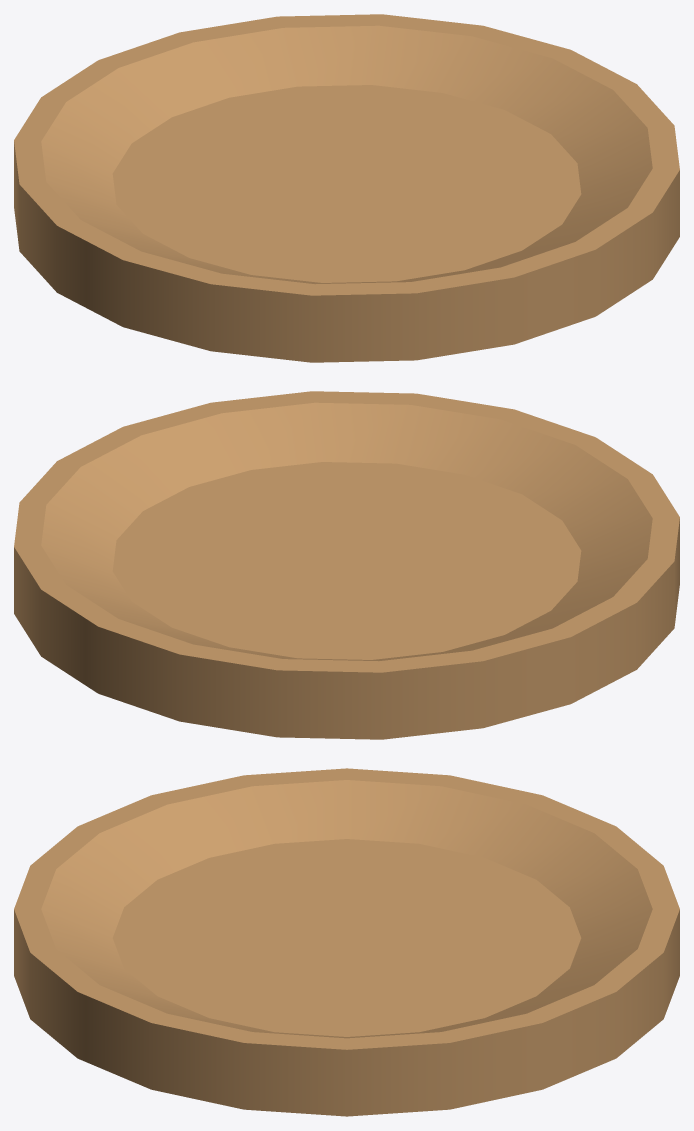
The model's file is Props_plate_01.fbx.
The picture shows the model from 3 angles, top to bottom: view 1: azimuth 30°, elevation 25°; view 2: azimuth 150°, elevation 25°; view 3: azimuth 270°, elevation 25°; orthographic projection.
Parts seen in each view (by area): view 1: plate2; view 2: plate2; view 3: plate2.
Boxes of the visible parts, x1=… form: plate2: x1=14, y1=14, x2=679, y2=362; plate2: x1=14, y1=391, x2=679, y2=739; plate2: x1=14, y1=768, x2=679, y2=1116.
Size of the model in its own units: 70.24 by 7.76 by 70.24.
